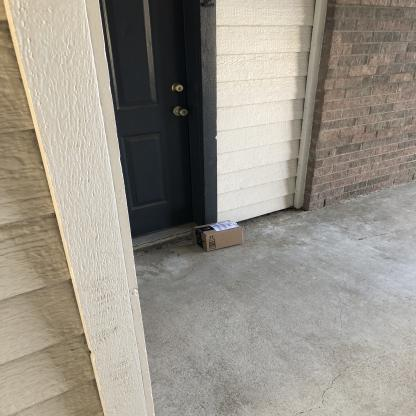package: (188, 217, 248, 254)
